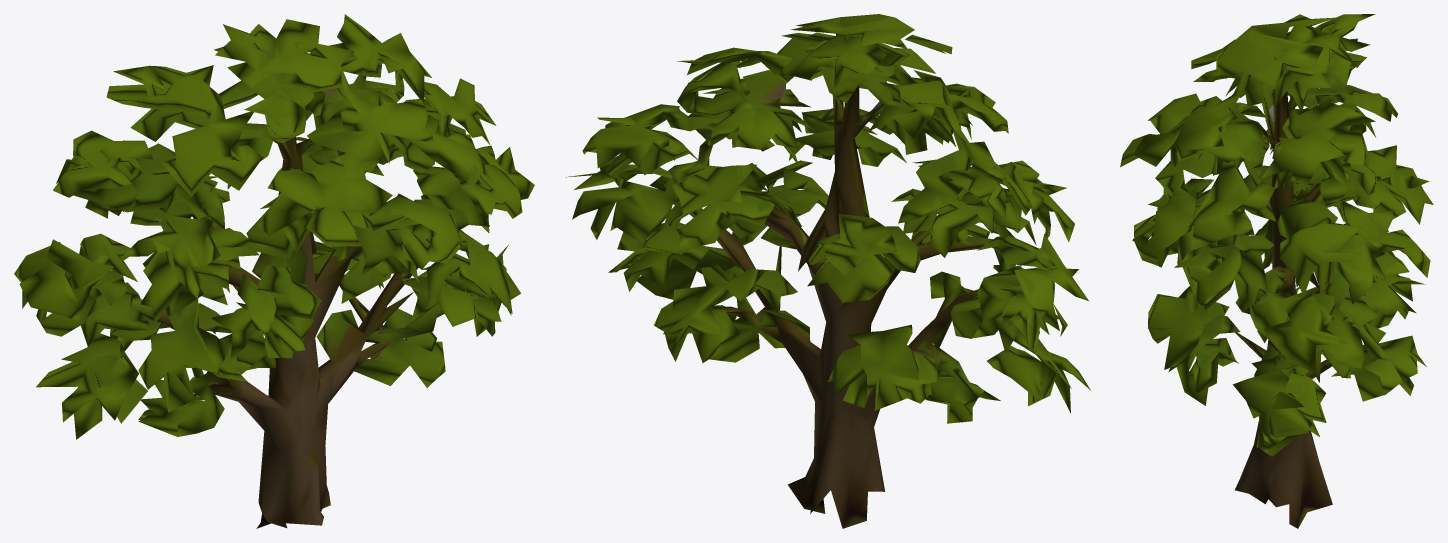
File: student-hall-center-tree.glb
3 views of the same model, side by side, from view 1: azimuth 30°, elevation 25°; view 2: azimuth 150°, elevation 25°; view 3: azimuth 270°, elevation 25° (orthographic). The views are drawn at different scales.
Parts seen in each view (by area): view 1: tripo_node_0dde67af-841b-4742-82a1-1dec368d5454; view 2: tripo_node_0dde67af-841b-4742-82a1-1dec368d5454; view 3: tripo_node_0dde67af-841b-4742-82a1-1dec368d5454.
Part boxes in pixels (<box>): tripo_node_0dde67af-841b-4742-82a1-1dec368d5454: <box>14,14,534,528</box>; tripo_node_0dde67af-841b-4742-82a1-1dec368d5454: <box>565,14,1090,528</box>; tripo_node_0dde67af-841b-4742-82a1-1dec368d5454: <box>1120,14,1433,528</box>.
Size of the model in its own units: 5.5 by 5.12 by 3.06.
Materials: 1 (1 with a texture image).
